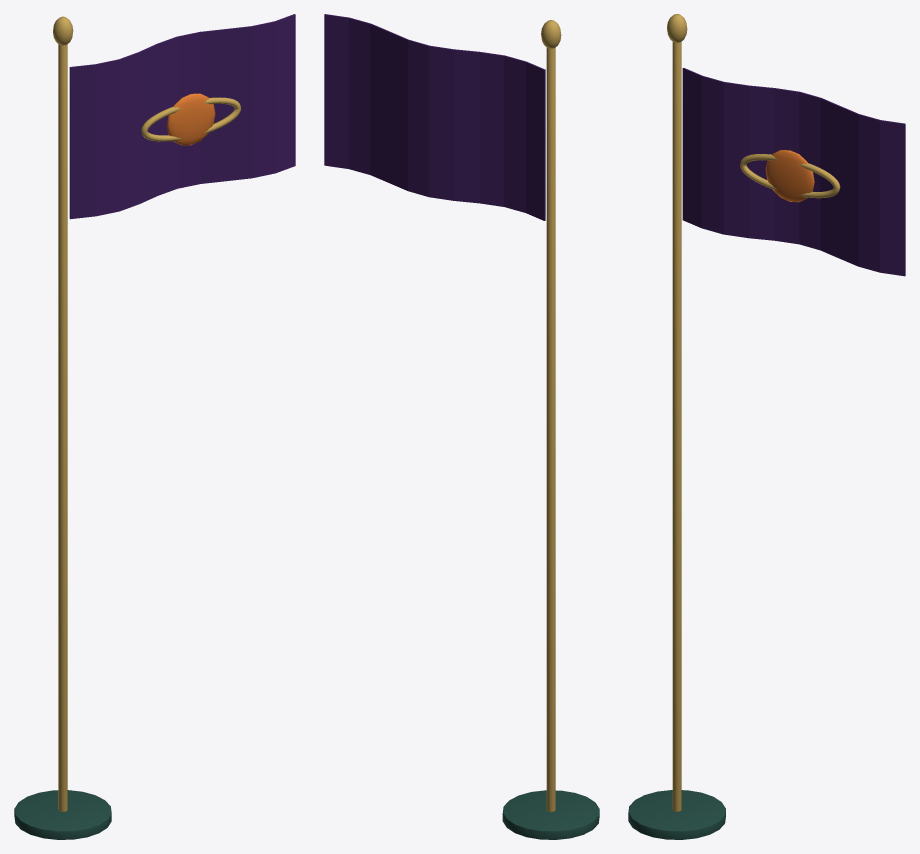
File: galactic_flag.glb
3 renders of one model, left to right at view 1: azimuth 30°, elevation 25°; view 2: azimuth 150°, elevation 25°; view 3: azimuth 330°, elevation 25°, orthographic.
Parts seen in each view (by area): view 1: Waved_flag, Pole, Foot, Planet, Ringed_planet; view 2: Waved_flag, Pole, Foot; view 3: Waved_flag, Pole, Foot, Planet, Ringed_planet.
Part boxes in pixels (x1,y1,x2,y2): Waved_flag: (69, 14, 295, 219); Pole: (58, 44, 67, 811); Foot: (14, 790, 111, 839); Planet: (166, 93, 215, 145); Ringed_planet: (141, 97, 240, 141); Waved_flag: (324, 14, 545, 220); Pole: (546, 47, 555, 812); Foot: (502, 790, 599, 839); Waved_flag: (682, 68, 905, 276); Pole: (672, 42, 681, 811); Foot: (628, 790, 725, 839); Planet: (765, 150, 814, 202); Ringed_planet: (740, 154, 840, 198).
Bounding box in the file's own units: 1.22 × 3.44 × 0.38.
